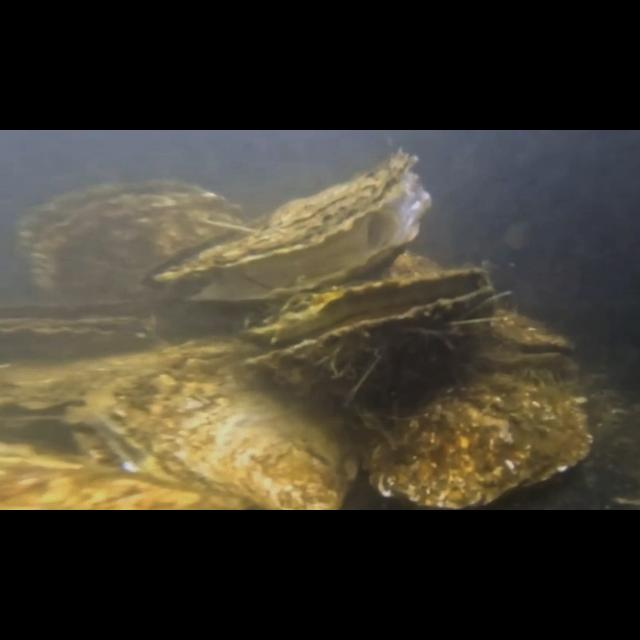Oyster-Closed: (371, 365, 595, 511), (0, 442, 256, 511)
Oyster-Open: (156, 148, 432, 316), (98, 352, 362, 511), (13, 176, 255, 320), (243, 264, 494, 394), (0, 337, 234, 437), (0, 313, 162, 365), (462, 309, 576, 369)
